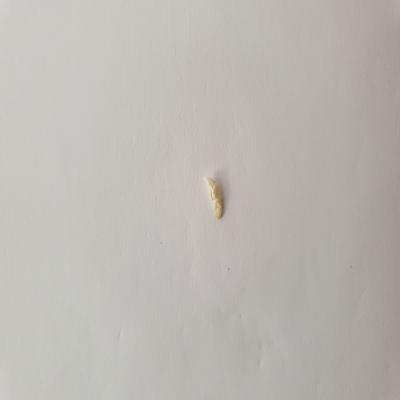plastic: (199, 170, 233, 222)
